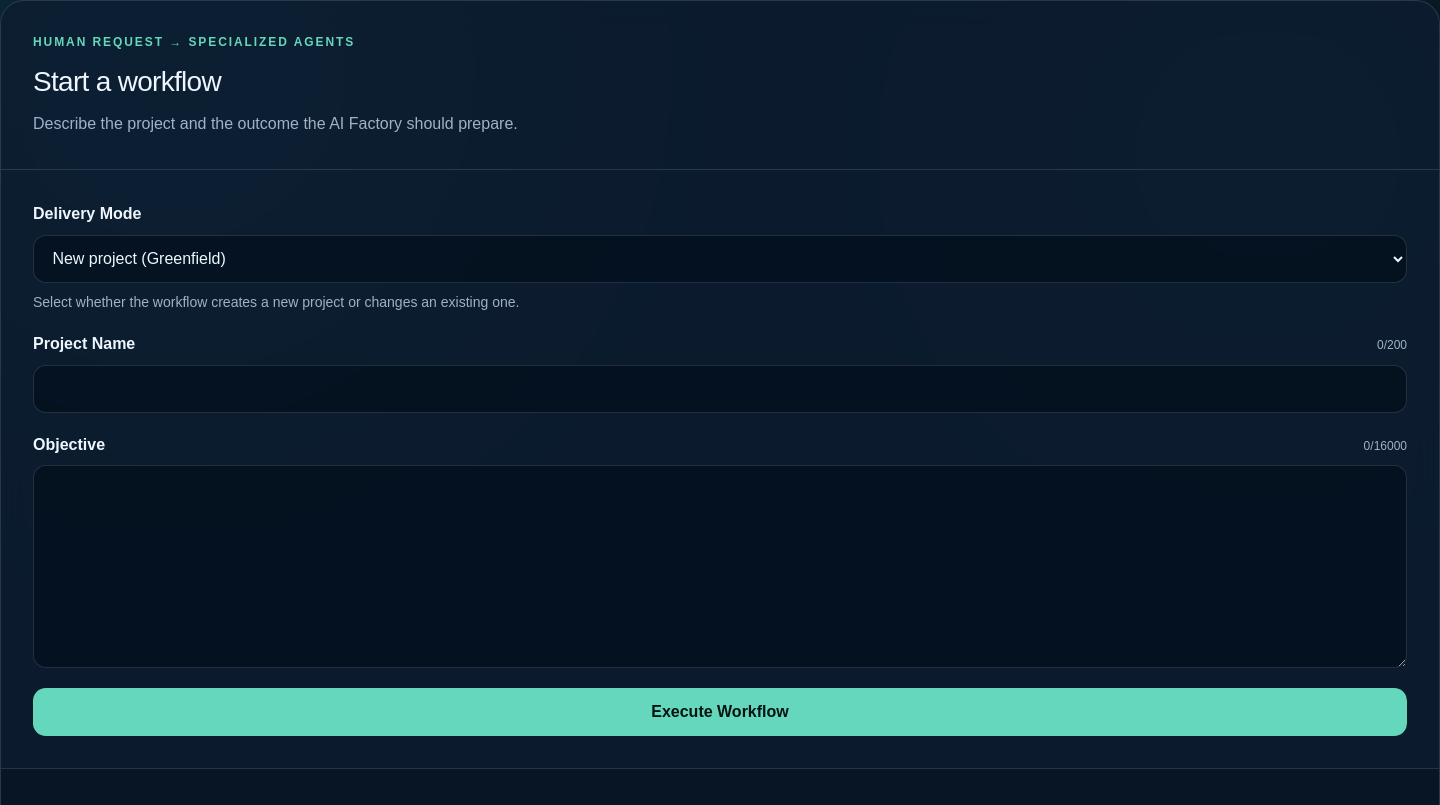
it: ExecutionExperience asynchronous flow › renders a safe client error without navigating
Select "New project (Greenfield)" in the dropdown labelled "Delivery Mode". click: (720, 259)
box: [33, 235, 1407, 283]
Type "Customer Portal" into the field labelled "Project Name". click: (720, 389)
box: [33, 365, 1407, 413]
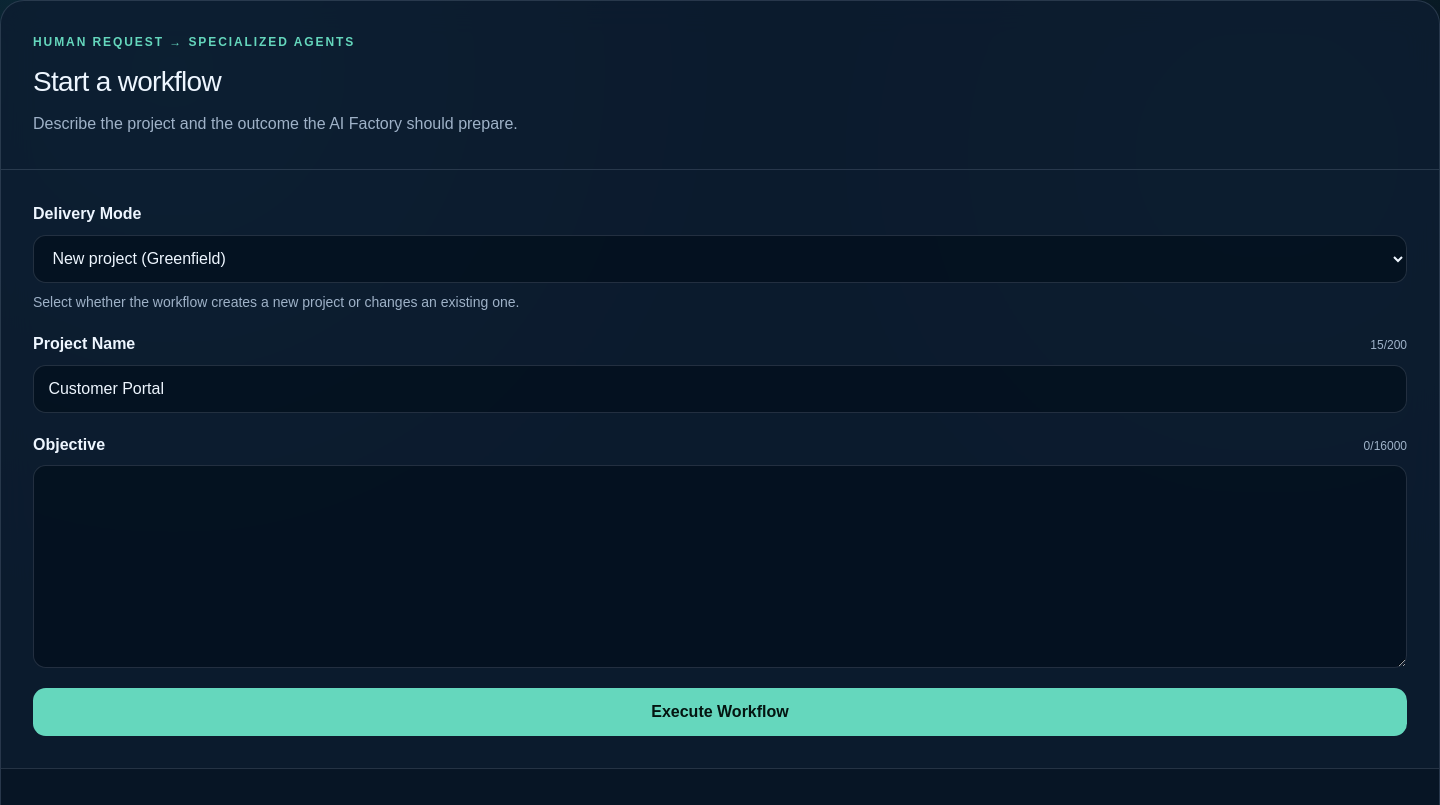
Type "Let customers track their orders." into the text box labelled "Objective". click: (720, 567)
box: [33, 466, 1407, 668]
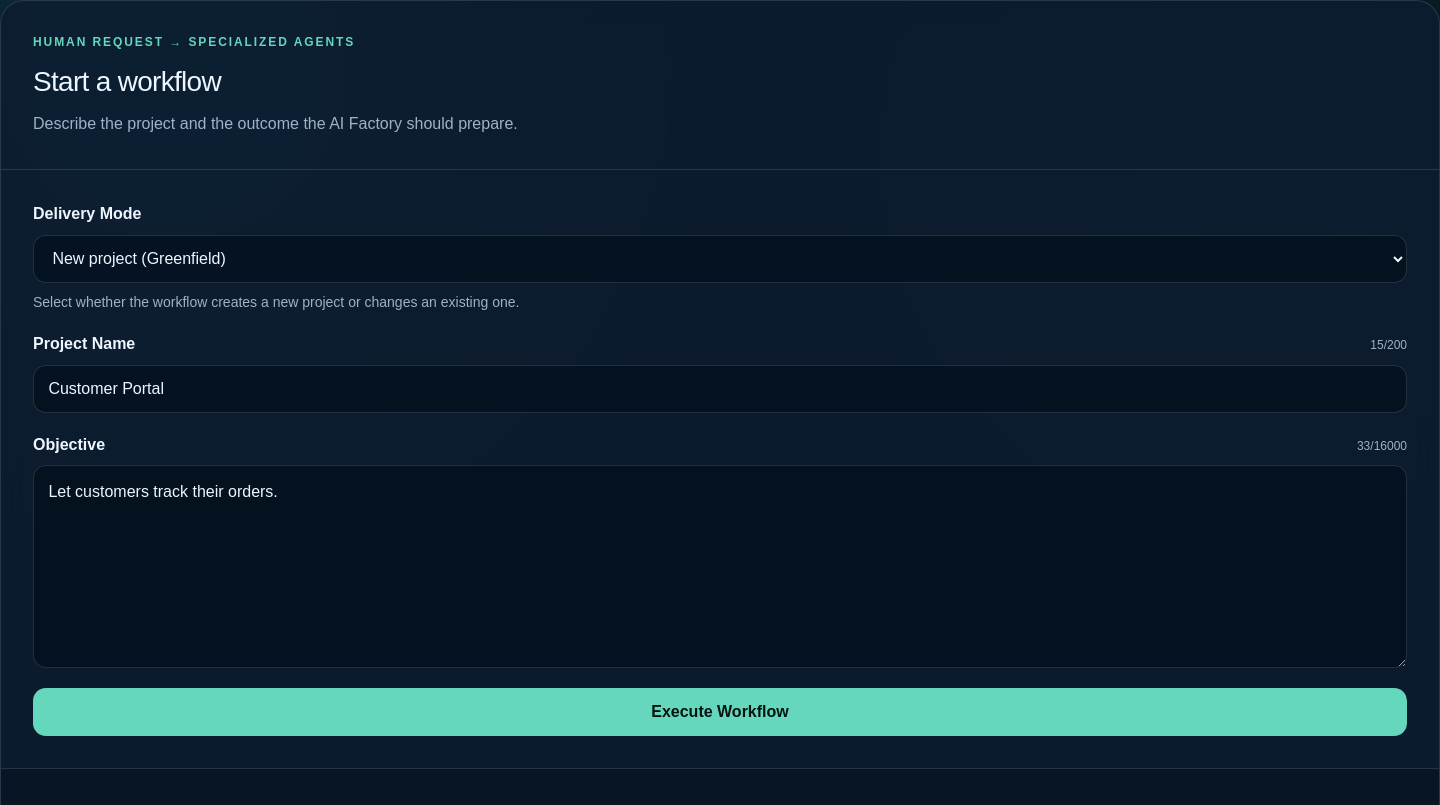
Click the button "Execute Workflow". click: (720, 712)
box: [33, 688, 1407, 736]
(page scrolled)
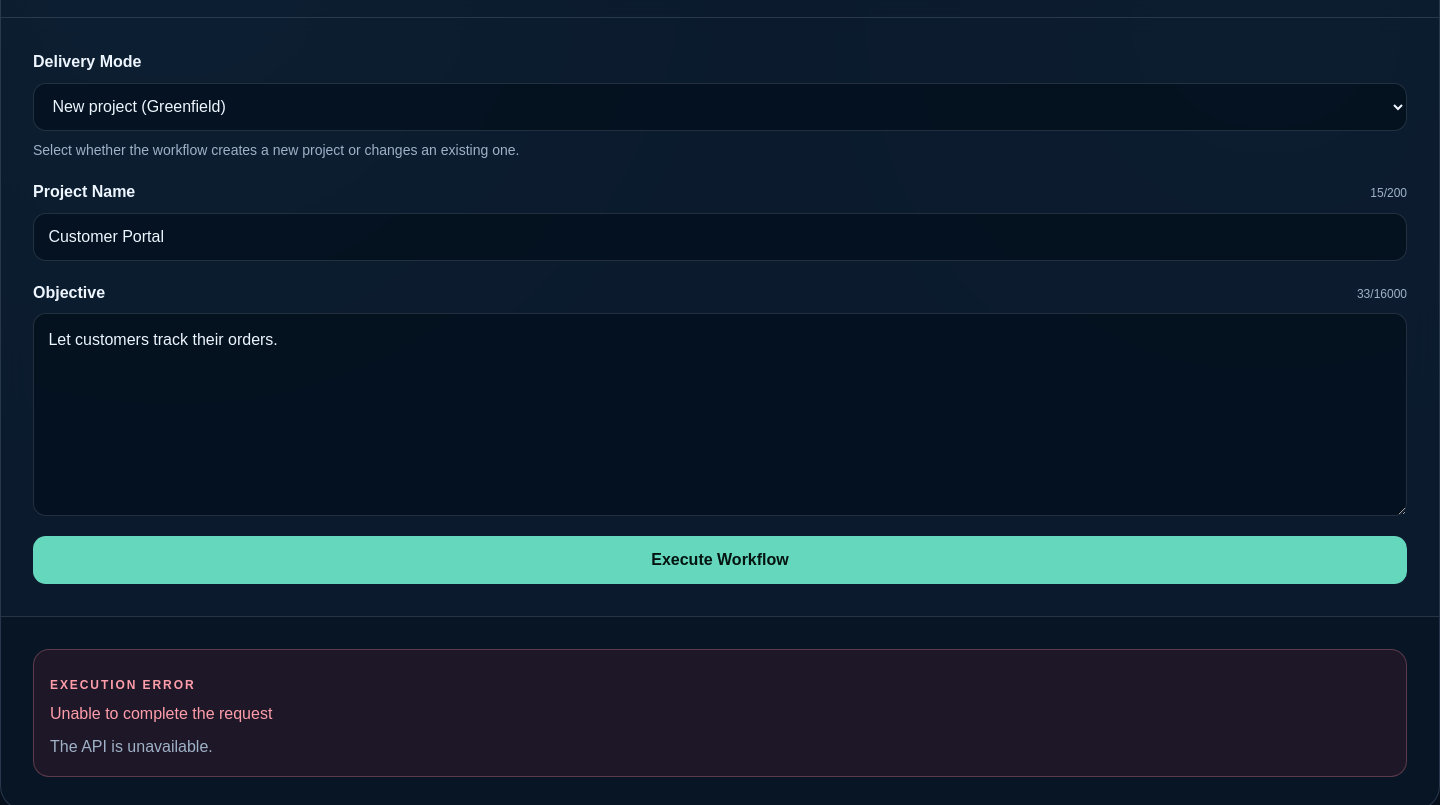
Check: the message shows "The API is unavailable.", box [50, 738, 213, 755]
